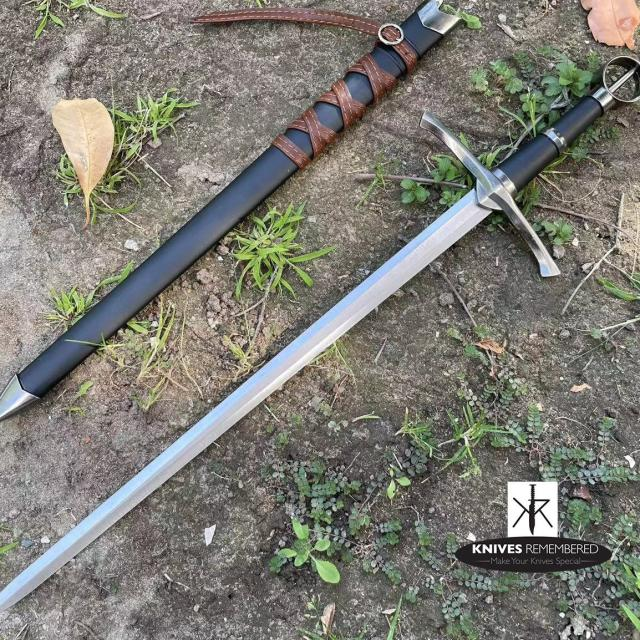Weapon: (0, 56, 640, 612)
